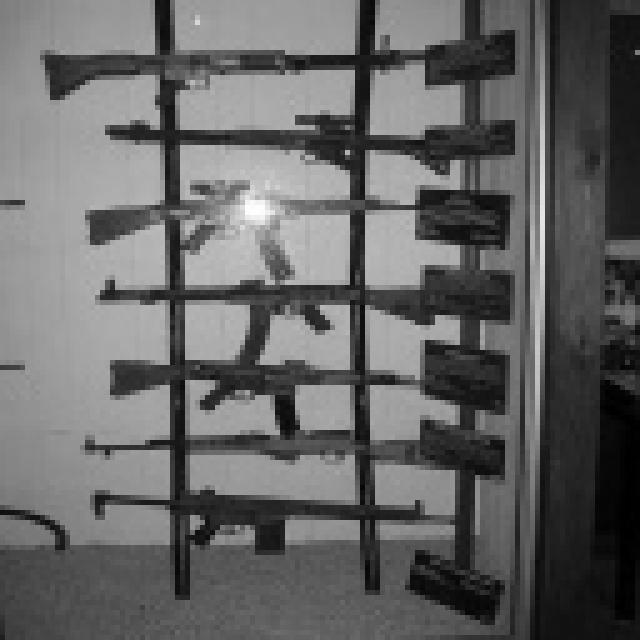Rifle: (69, 170, 495, 289), (76, 255, 500, 372), (80, 95, 518, 190), (48, 490, 467, 580), (77, 343, 460, 438), (19, 34, 476, 104), (41, 427, 506, 495)
